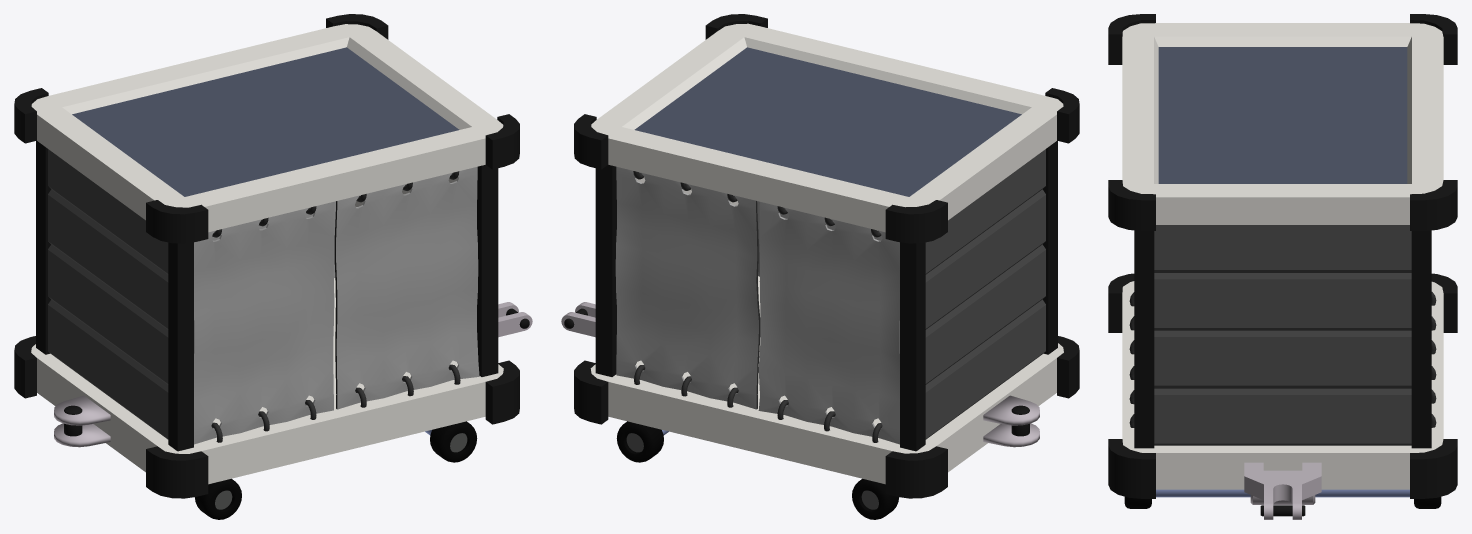
Rendered from 21_2_BaggageTruck_AIRPORT_0.obj.
3 renders of one model, left to right at view 1: azimuth 30°, elevation 25°; view 2: azimuth 150°, elevation 25°; view 3: azimuth 270°, elevation 25°, orthographic. The views are drawn at different scales.
Visible parts, largest first — view 1: 21.2.BaggageTruck_AIRPORT_0; view 2: 21.2.BaggageTruck_AIRPORT_0; view 3: 21.2.BaggageTruck_AIRPORT_0.
Boxes of the visible parts, x1,y1,x2,y2 form: 21.2.BaggageTruck_AIRPORT_0: (14,14,532,519); 21.2.BaggageTruck_AIRPORT_0: (561,14,1079,519); 21.2.BaggageTruck_AIRPORT_0: (1108,14,1457,519).
Bounding box in the file's own units: 7.06 × 4.67 × 4.36.
Materials: 1 (1 with a texture image).
